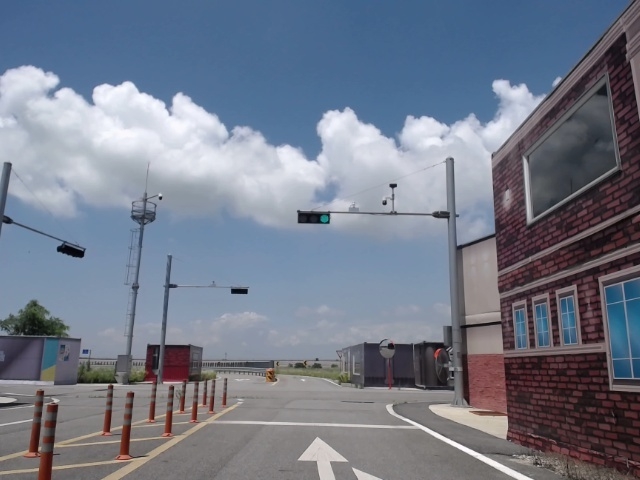green_3: (298, 212, 330, 223)
